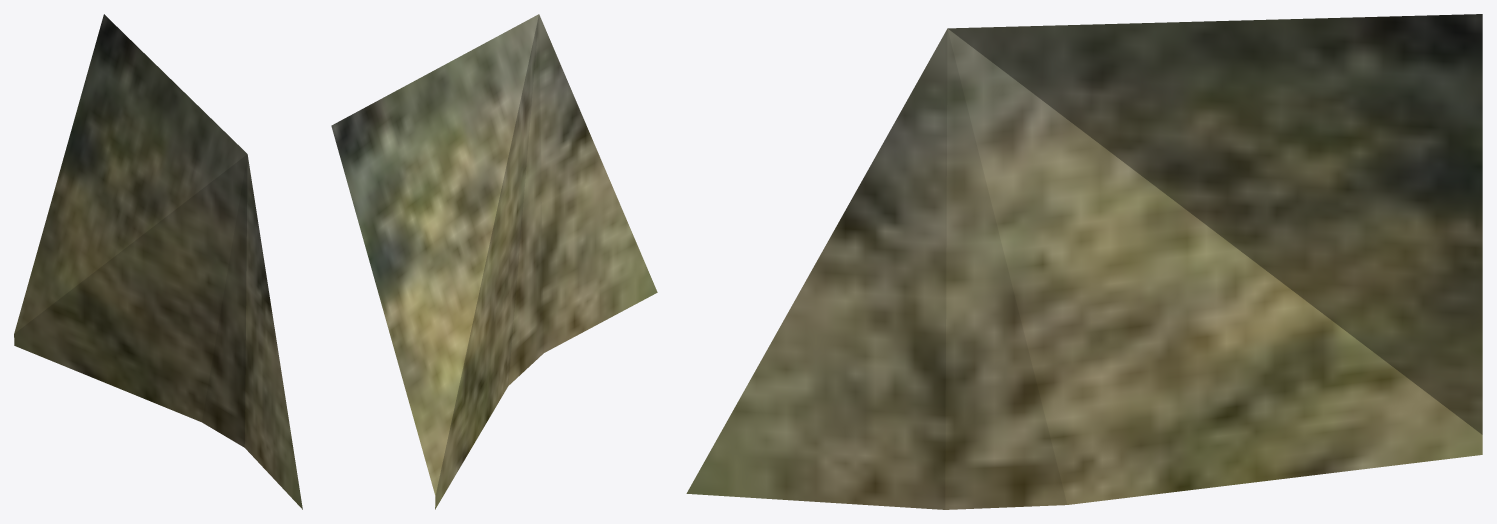
3 renders of one model, left to right at view 1: azimuth 30°, elevation 25°; view 2: azimuth 150°, elevation 25°; view 3: azimuth 270°, elevation 25°, orthographic. The views are drawn at different scales.
Bounding box in the file's own units: 1.55 × 5.11 × 7.19.
Materials: 1 (1 with a texture image).
